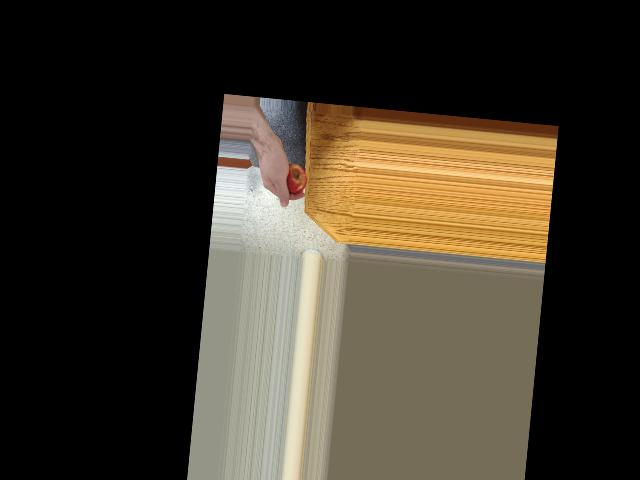apple: (277, 161, 308, 194)
